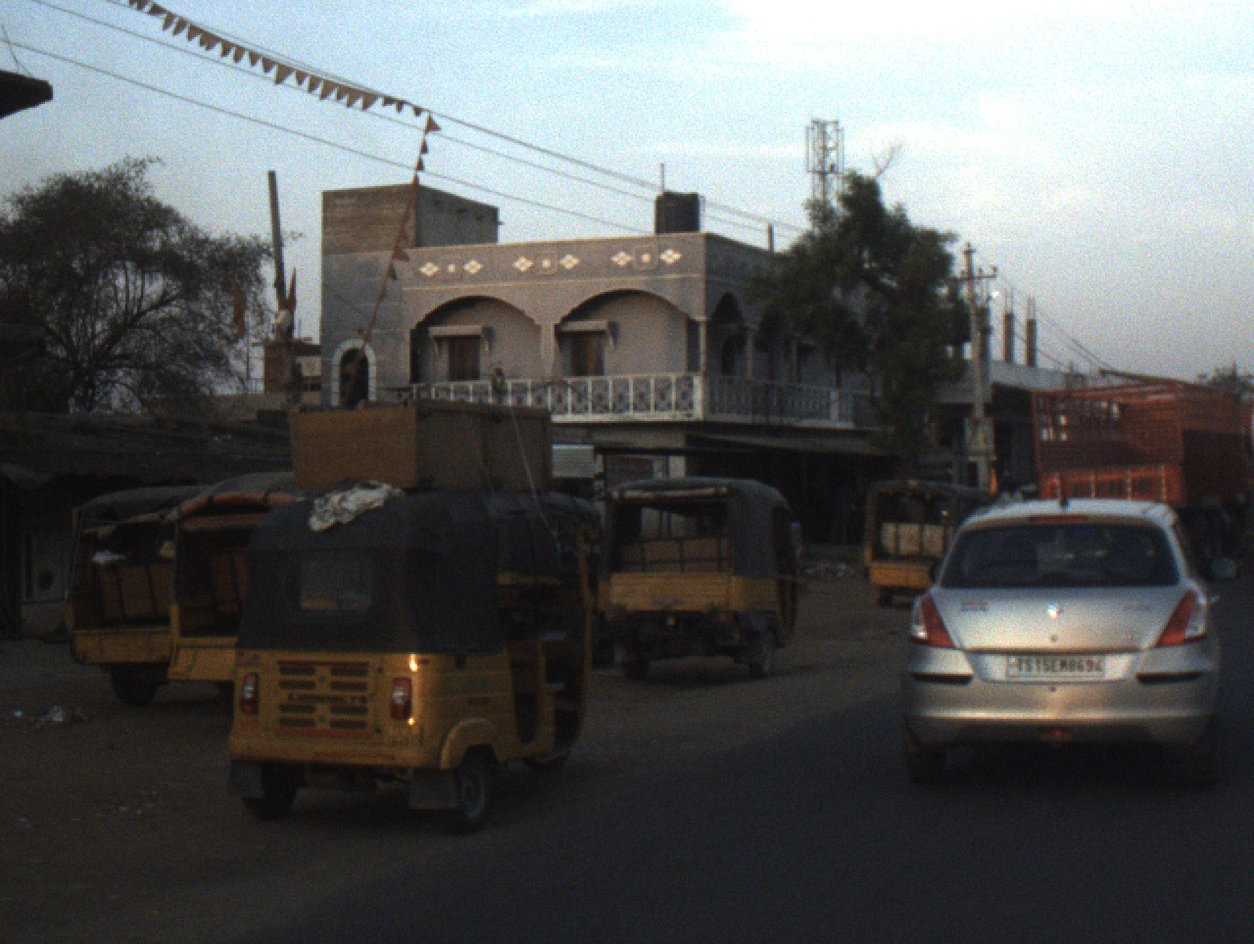autorickshaw: (217, 395, 606, 829), (598, 469, 805, 684), (162, 469, 310, 709), (60, 485, 218, 705), (858, 480, 985, 609), (545, 491, 606, 670)
car: (913, 434, 1224, 791)
rider: (995, 481, 1026, 506)
truck: (1036, 366, 1254, 588)
